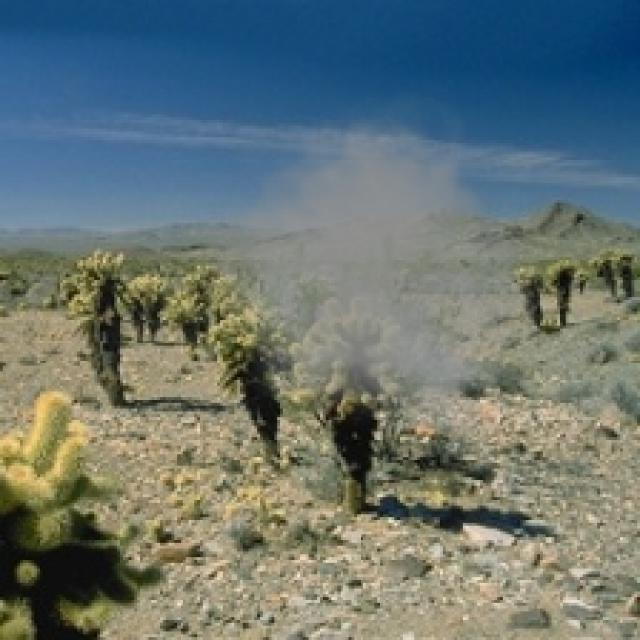smoke: (189, 80, 557, 431)
